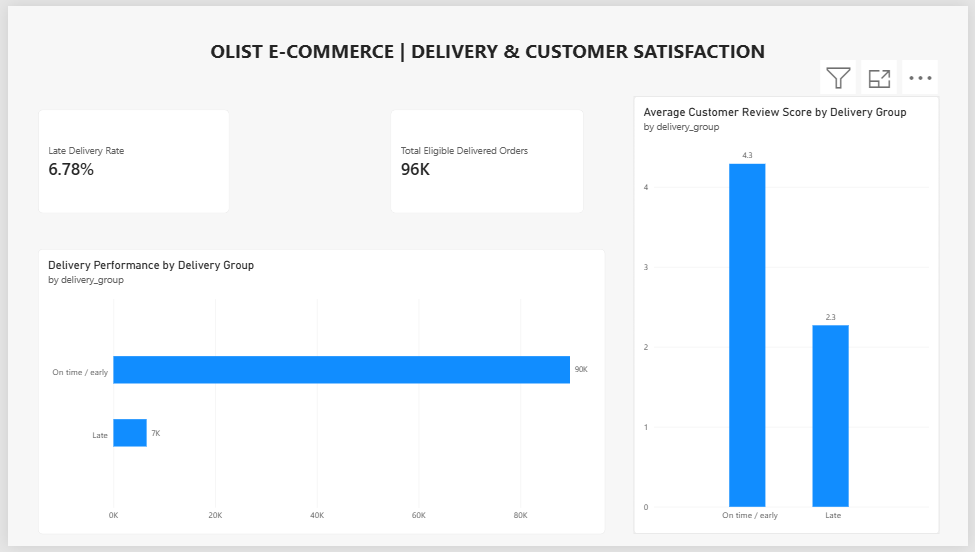

Layout of this report page (visuals, bound fields, positions):
{"tool":"powerbi","page":{"name":"Delivery & Satisfaction","canvas":[1600,900],"ordinal":1},"visuals":[{"type":"textbox","box":[-160,52.5,1920,52.5],"z":0},{"type":"clusteredBarChart","fields":{"Category":["olist_ecommerce vw_olist_delivery_rating_comparison.delivery_group"],"Y":["Sum(olist_ecommerce vw_olist_delivery_rating_comparison.eligible_delivered_orders)"]},"box":[50,405,945,475],"z":1000},{"type":"clusteredColumnChart","fields":{"Category":["olist_ecommerce vw_olist_delivery_rating_comparison.delivery_group"],"Y":["Avg(olist_ecommerce vw_olist_delivery_rating_comparison.avg_score_all_reviews)"]},"box":[1042.5,150,510,730],"z":2000},{"type":"cardVisual","fields":{"Data":["DeliveryRating.Late Delivery Rate"]},"box":[50,172.5,319.7,173.3],"z":3000},{"type":"cardVisual","fields":{"Data":["Sum(DeliveryRating.eligible_delivered_orders)"]},"box":[637.5,172.5,322.7,173.3],"z":4000}]}

Visuals, with their boxes in screenshot pixels (x1, y1, x2, y2), scaled from the page's 1600x900 canvas onto the 975x552 screenshot:
textbox: (left=0, top=32, right=974, bottom=64)
clusteredBarChart - olist_ecommerce vw_olist_delivery_rating_comparison.delivery_group x Sum(olist_ecommerce vw_olist_delivery_rating_comparison.eligible_delivered_orders): (left=30, top=248, right=606, bottom=540)
clusteredColumnChart - olist_ecommerce vw_olist_delivery_rating_comparison.delivery_group x Avg(olist_ecommerce vw_olist_delivery_rating_comparison.avg_score_all_reviews): (left=635, top=92, right=946, bottom=540)
cardVisual - DeliveryRating.Late Delivery Rate: (left=30, top=106, right=225, bottom=212)
cardVisual - Sum(DeliveryRating.eligible_delivered_orders): (left=388, top=106, right=585, bottom=212)
